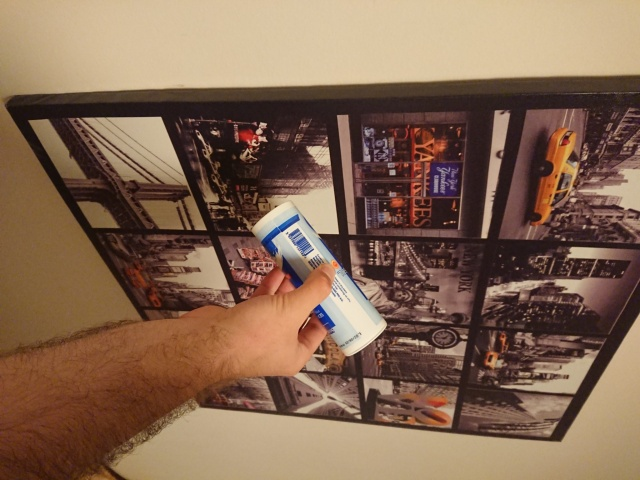Solana Pag Fine Sea Salt 250g: (249, 198, 390, 359)
